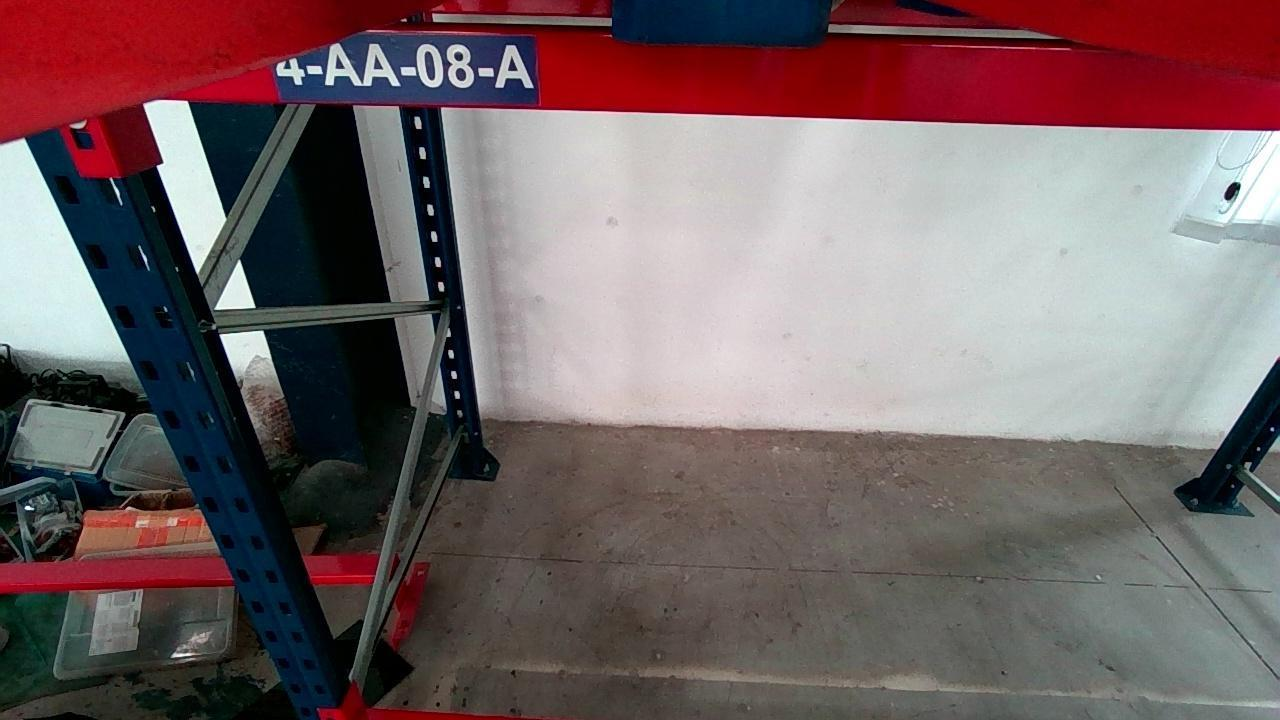h_rack: (151, 33, 1280, 129)
